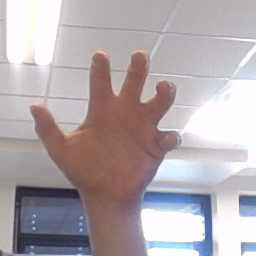AE: (28, 47, 183, 197)
